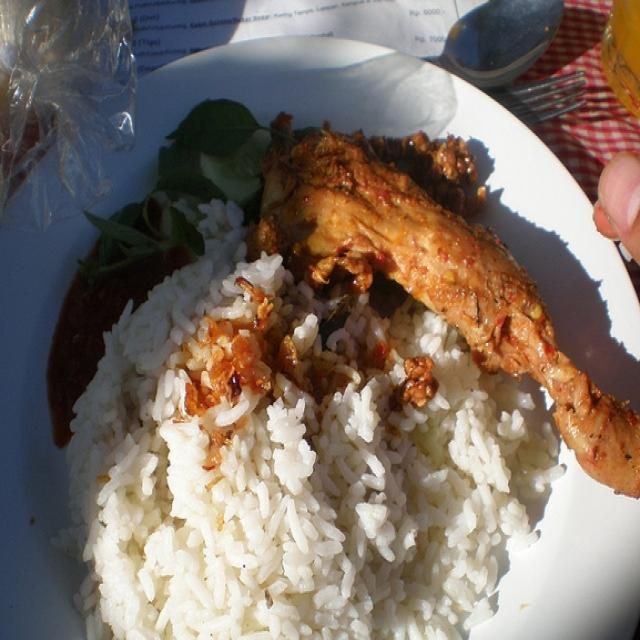米饭主食: (60, 95, 608, 631)
